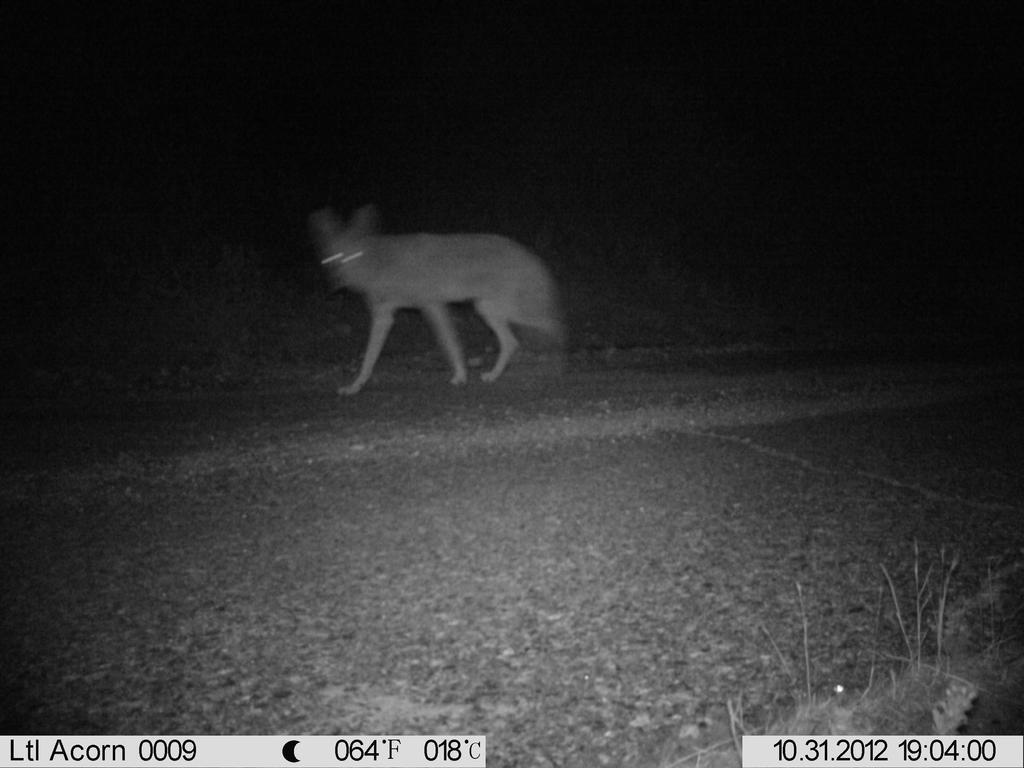coyote: (304, 199, 569, 402)
